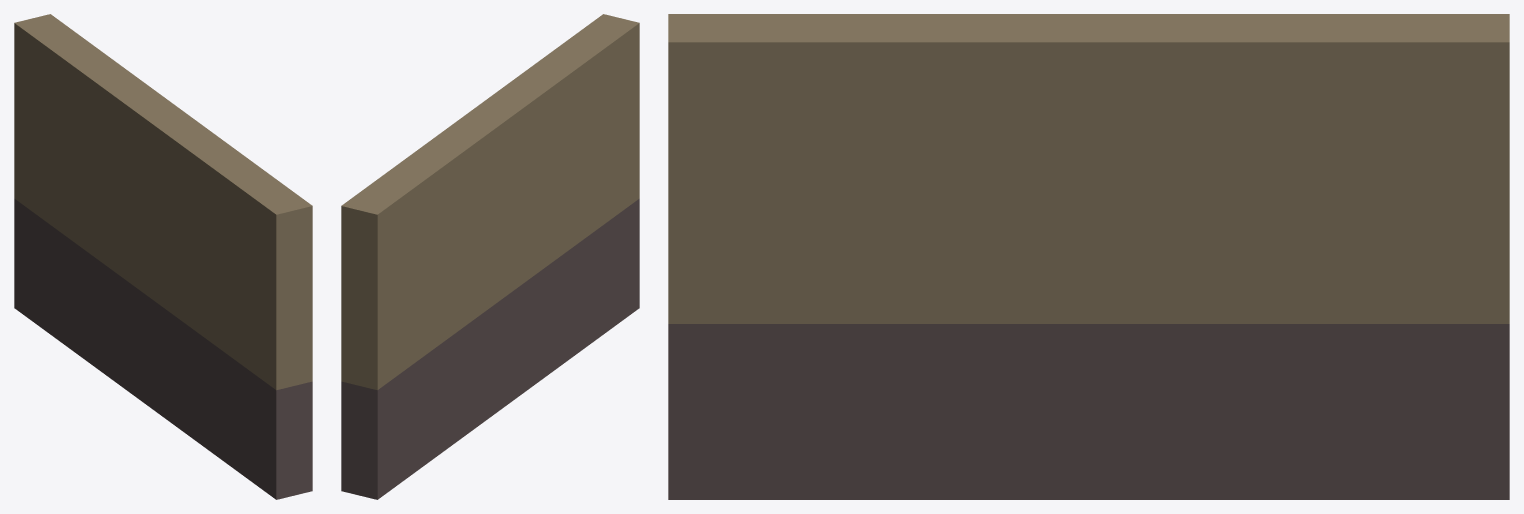
Rendered from Res01_StoreRoomWall.fbx.
3 views of the same model, side by side, from view 1: azimuth 30°, elevation 25°; view 2: azimuth 150°, elevation 25°; view 3: azimuth 270°, elevation 25° (orthographic). The views are drawn at different scales.
Visible parts, largest first — view 1: Res01_StoreRoomWall; view 2: Res01_StoreRoomWall; view 3: Res01_StoreRoomWall.
Part boxes in pixels (x1,y1,x2,y2): Res01_StoreRoomWall: (14,14,312,499); Res01_StoreRoomWall: (341,14,639,499); Res01_StoreRoomWall: (668,14,1509,499).
Bounding box in the file's own units: 40 × 300 × 500.
